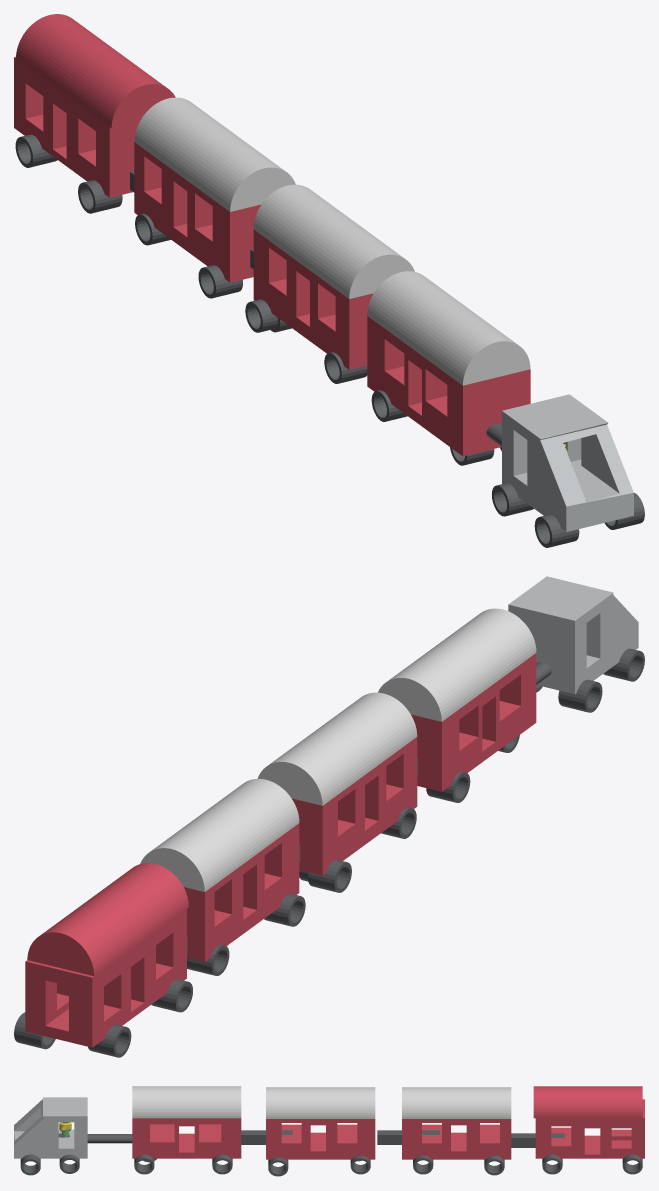
The model's file is Train.glb.
3 views of the same model, one above another, from view 1: azimuth 30°, elevation 25°; view 2: azimuth 150°, elevation 25°; view 3: azimuth 270°, elevation 25° (orthographic). The views are drawn at different scales.
Visible parts, largest first — view 1: Mesh_Mesh_head_geo.001_lambert2SG.001; view 2: Mesh_Mesh_head_geo.001_lambert2SG.001; view 3: Mesh_Mesh_head_geo.001_lambert2SG.001.
Part boxes in pixels (x1,y1,x2,y2): Mesh_Mesh_head_geo.001_lambert2SG.001: (14, 14, 644, 547); Mesh_Mesh_head_geo.001_lambert2SG.001: (14, 576, 644, 1057); Mesh_Mesh_head_geo.001_lambert2SG.001: (14, 1086, 644, 1176).
Bounding box in the file's own units: 28 × 37 × 283.
